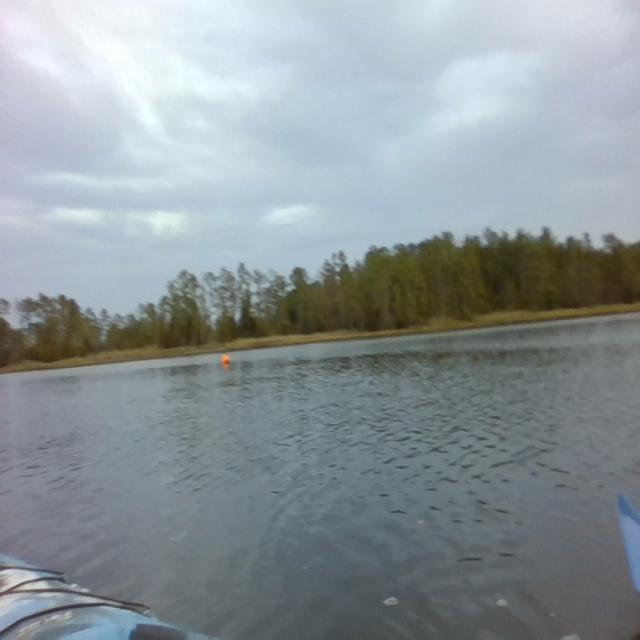Buoy: (221, 352, 231, 368)
